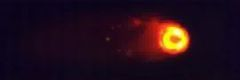keyhole: (168, 34, 184, 46)
